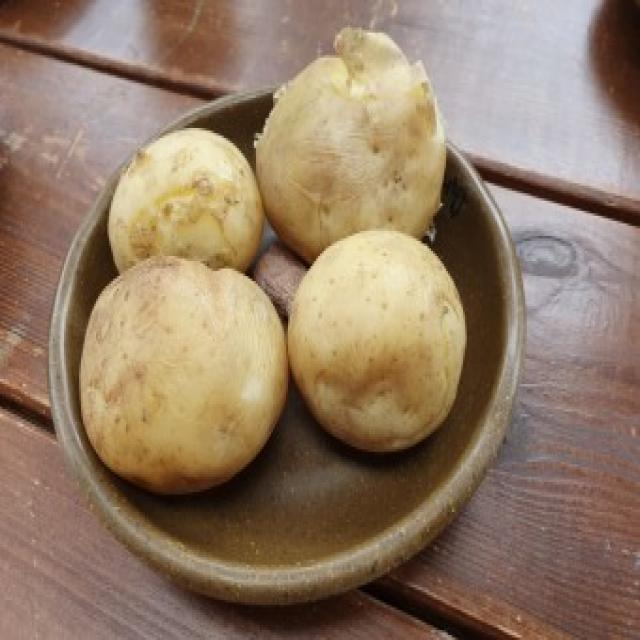potato: (252, 22, 450, 274), (79, 254, 288, 492), (282, 224, 471, 456), (113, 127, 267, 290)
